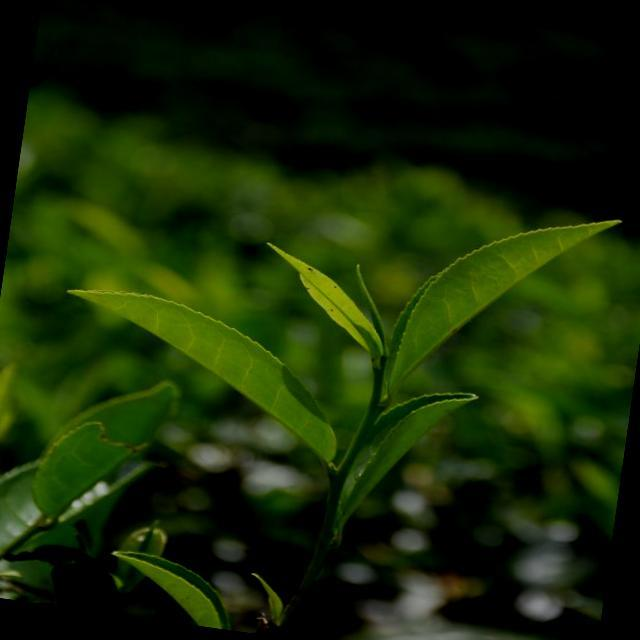Stem: (374, 369, 383, 381)
